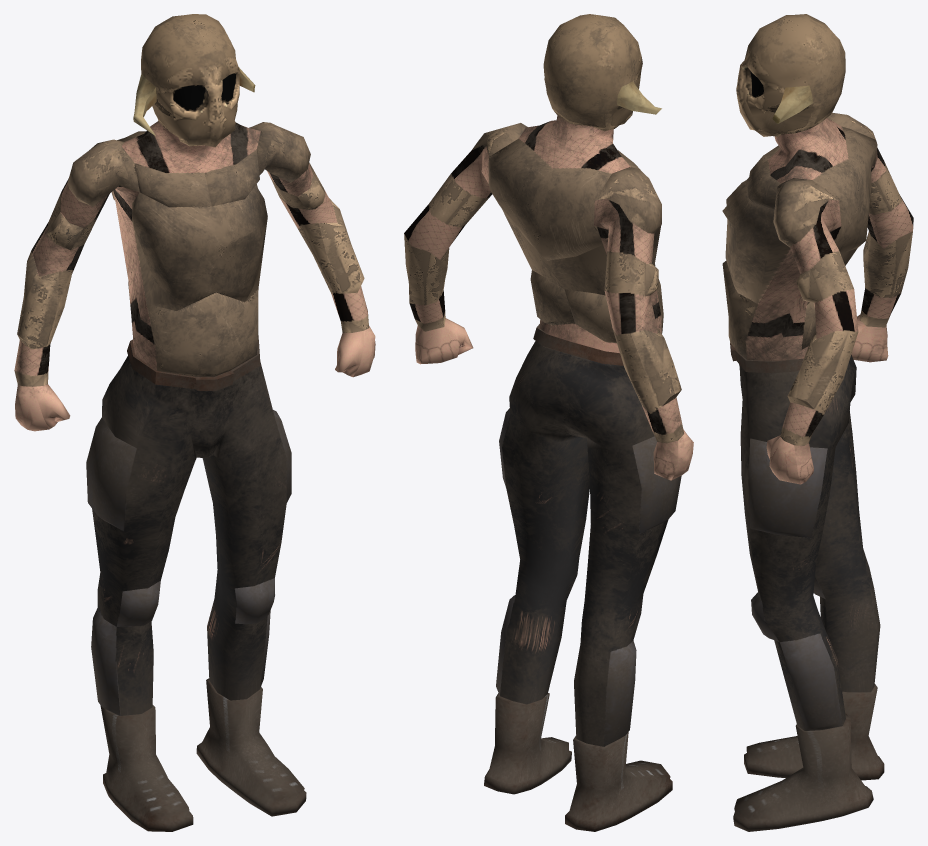
File: Anim_ataque_f2_npc1.0009.obj
The picture shows the model from 3 angles, left to right: view 1: azimuth 30°, elevation 25°; view 2: azimuth 150°, elevation 25°; view 3: azimuth 270°, elevation 25°; orthographic projection. The views are drawn at different scales.
Parts seen in each view (by area): view 1: NPC2; view 2: NPC2; view 3: NPC2.
Boxes of the visible parts, box(x1,y1,x2,y2) form: NPC2: box(14, 14, 375, 831); NPC2: box(404, 14, 693, 831); NPC2: box(722, 14, 913, 831).
Size of the model in its own units: 4.06 by 9.67 by 2.18.
